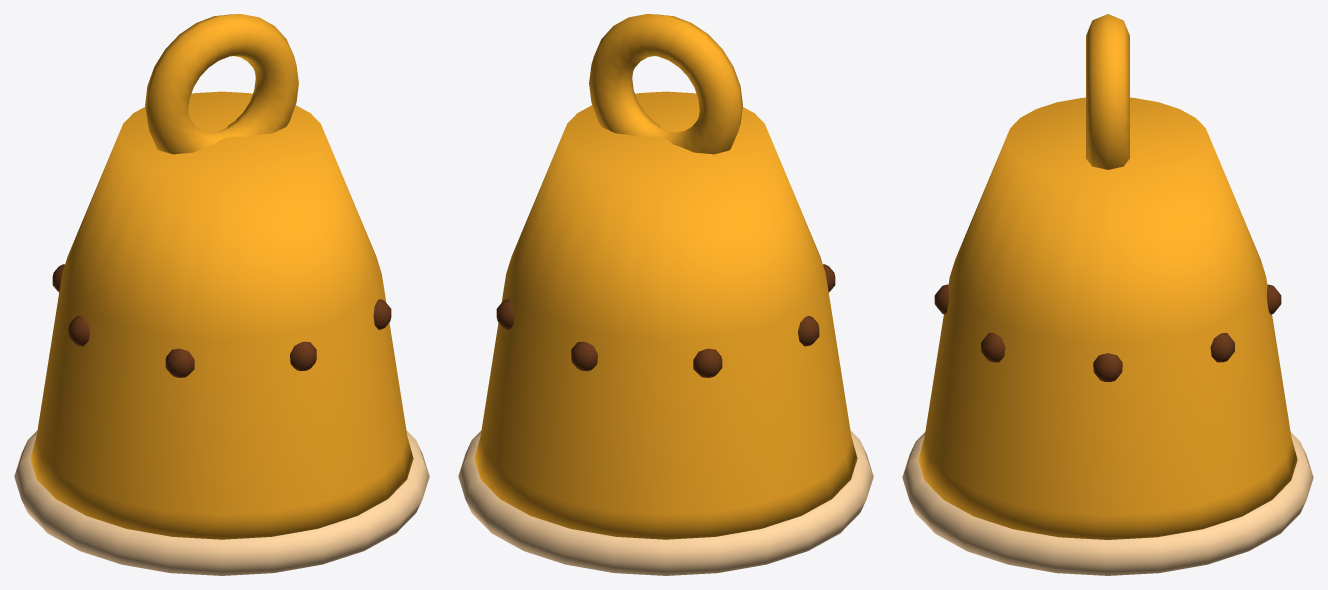
File: goldchime.glb
The picture shows the model from 3 angles, left to right: view 1: azimuth 30°, elevation 25°; view 2: azimuth 150°, elevation 25°; view 3: azimuth 270°, elevation 25°; orthographic projection.
Visible parts, largest first — view 1: goldchime; view 2: goldchime; view 3: goldchime.
Boxes of the visible parts, bbox=[...] form: goldchime: bbox=[14, 14, 429, 575]; goldchime: bbox=[458, 14, 873, 575]; goldchime: bbox=[902, 14, 1313, 575].
Size of the model in its own units: 0.7831 by 1 by 0.7831.
1 material, 1 textured.
